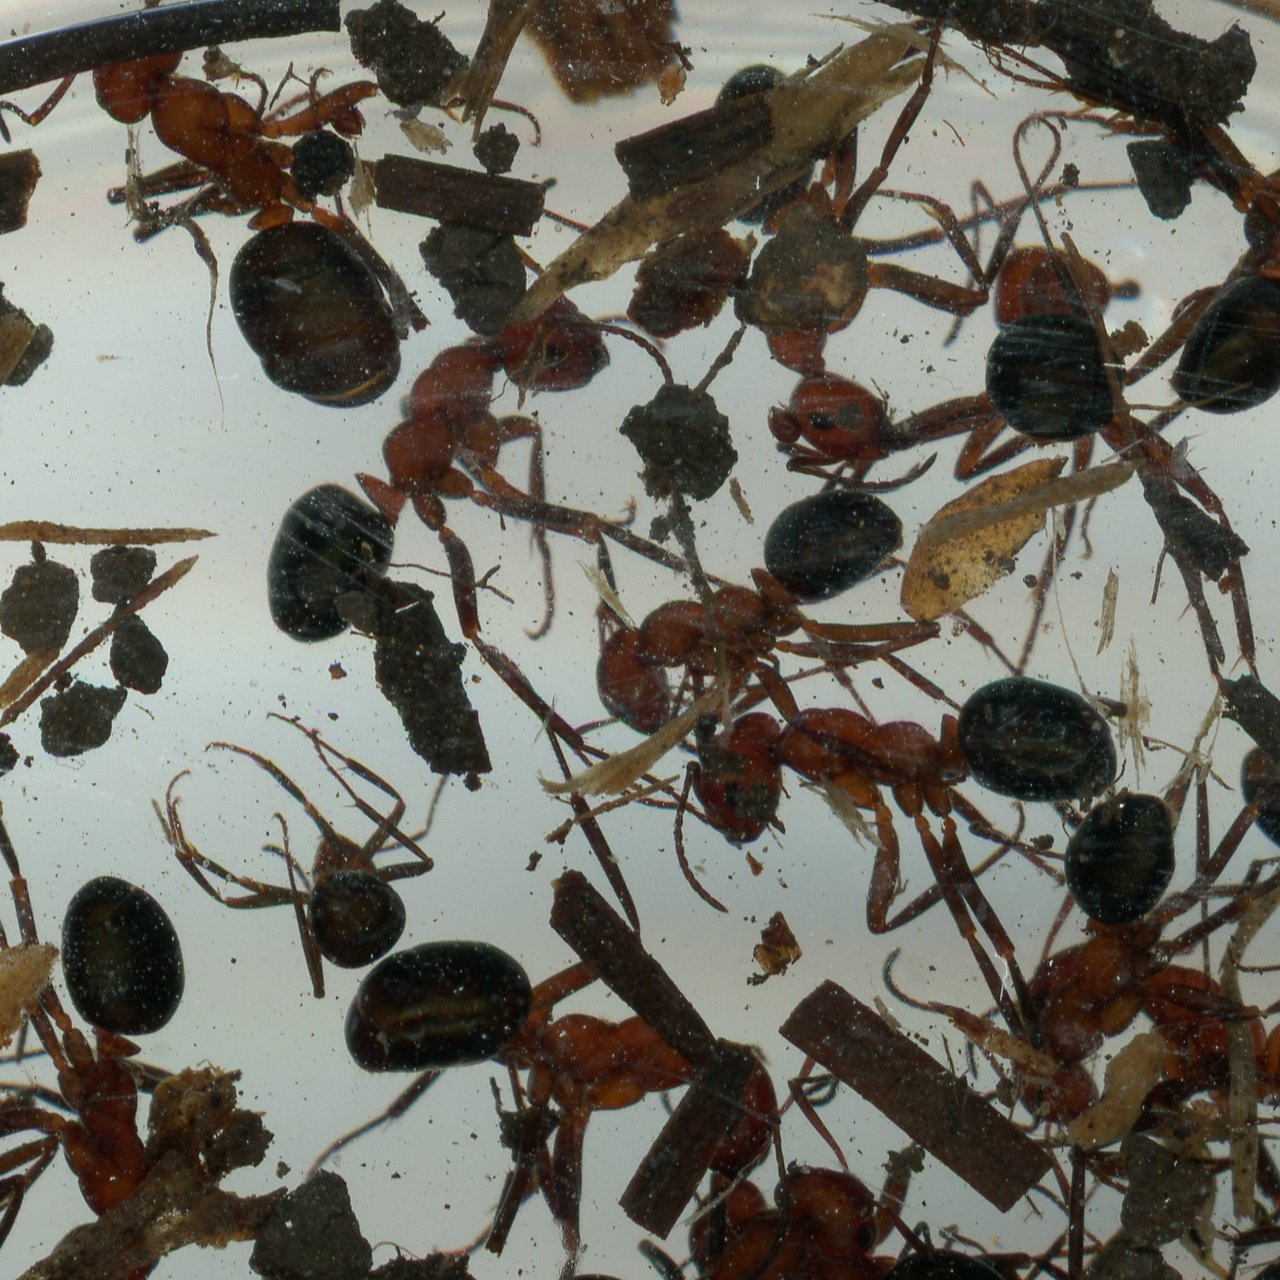arthropod: (0, 0, 451, 490), (252, 279, 681, 699), (291, 930, 712, 1267), (702, 54, 998, 492), (668, 673, 1128, 938), (867, 782, 1198, 1142), (0, 823, 257, 1280), (563, 474, 951, 749), (959, 922, 1280, 1227), (148, 717, 447, 1007), (468, 1082, 901, 1280), (1133, 0, 1280, 472), (968, 236, 1165, 485), (1214, 114, 1280, 682), (0, 893, 50, 1280), (1198, 1074, 1280, 1280), (821, 1232, 1058, 1280), (924, 1240, 1200, 1280), (1165, 425, 1214, 486)
